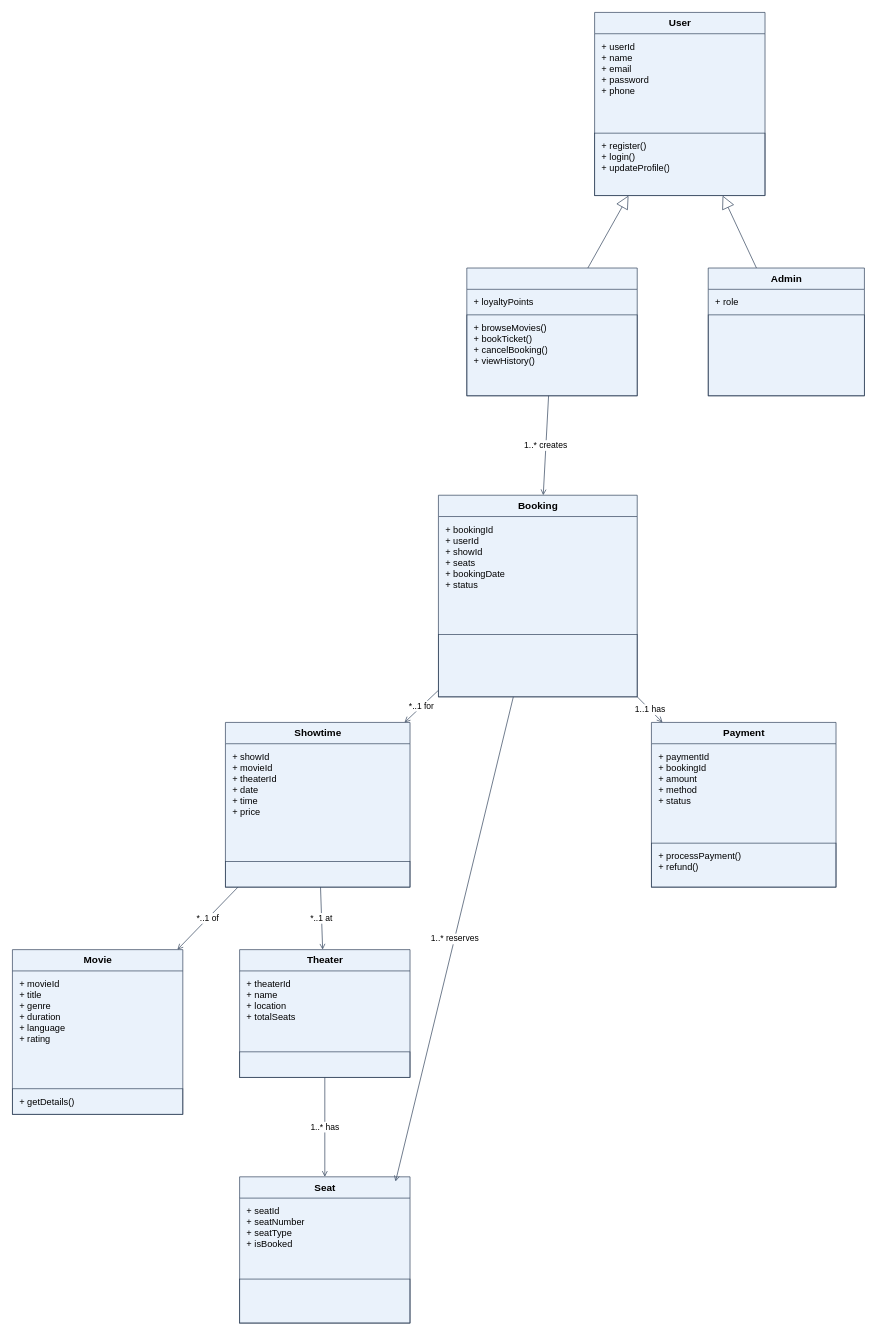
Some shapes in this 877 by 1338 pixel diagram are drawn without their labels. The box of each missing label's shape, as (x1, y1, x2, y2) in pixels:
+ addMovie() + updateShowtime() + generateReport() + processRefund(): (708, 314, 864, 396)
+ confirmBooking() + cancelBooking() + generateTicket(): (438, 634, 637, 697)
+ getAvailableSeats(): (225, 861, 410, 887)
+ getSeatLayout(): (239, 1051, 410, 1077)
+ lockSeat() + releaseSeat(): (239, 1278, 410, 1323)
Customer: (466, 267, 637, 396)
